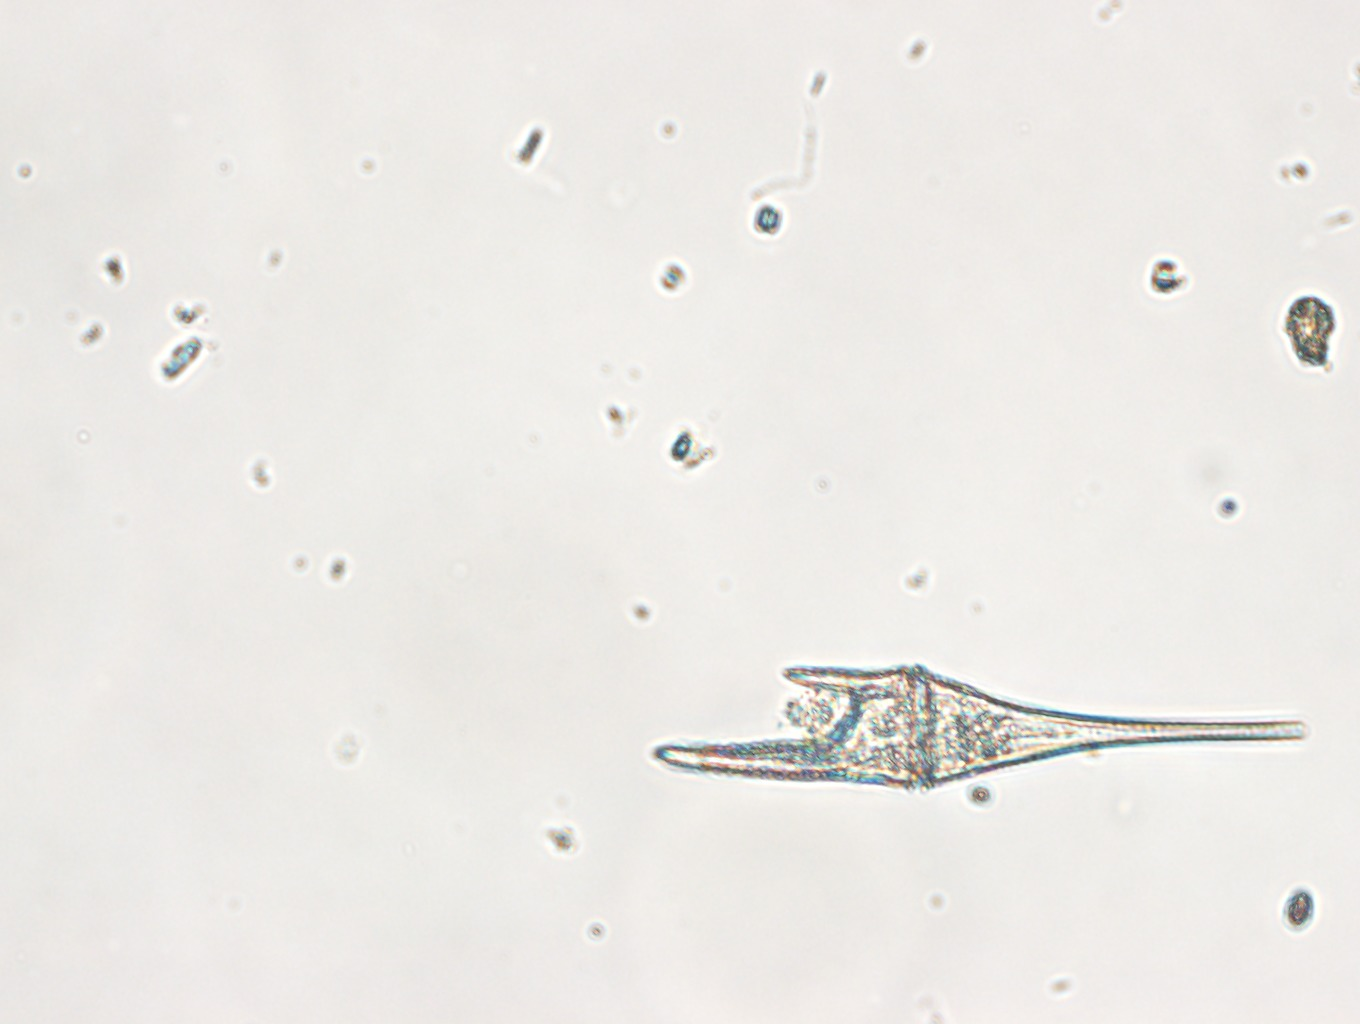ceratium furca: (652, 664, 1308, 791)
